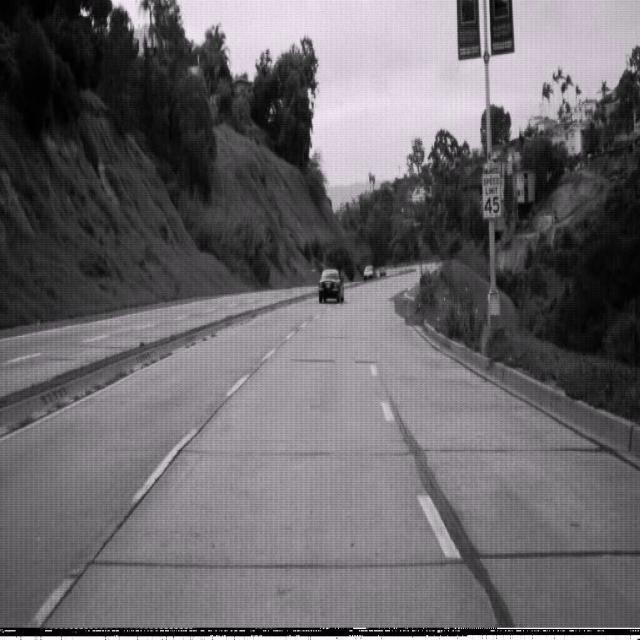speedLimit45: (480, 169, 502, 220)
